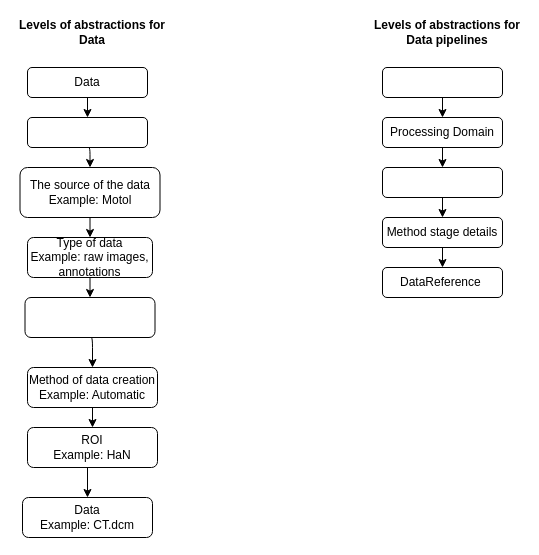
Image size: 539x555. Some labels were removed from this diagram. Each missing label, with the centre of its shape:
Data pipelines: the point at 442,82
Method/Model: the point at 442,182
The modality of the data Example: MRI: the point at 89,317
Type of collaboration Example: public data: the point at 87,132
